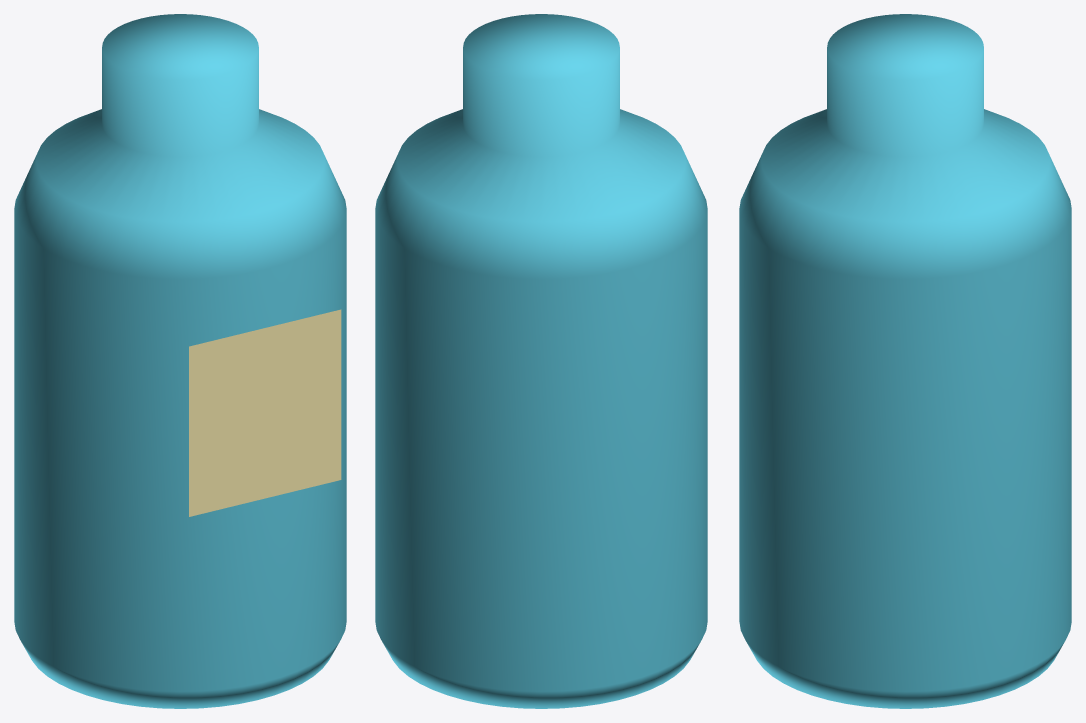
File: bottle.glb
The picture shows the model from 3 angles, left to right: view 1: azimuth 30°, elevation 25°; view 2: azimuth 150°, elevation 25°; view 3: azimuth 270°, elevation 25°; orthographic projection.
Size of the model in its own units: 106 by 210 by 107.
